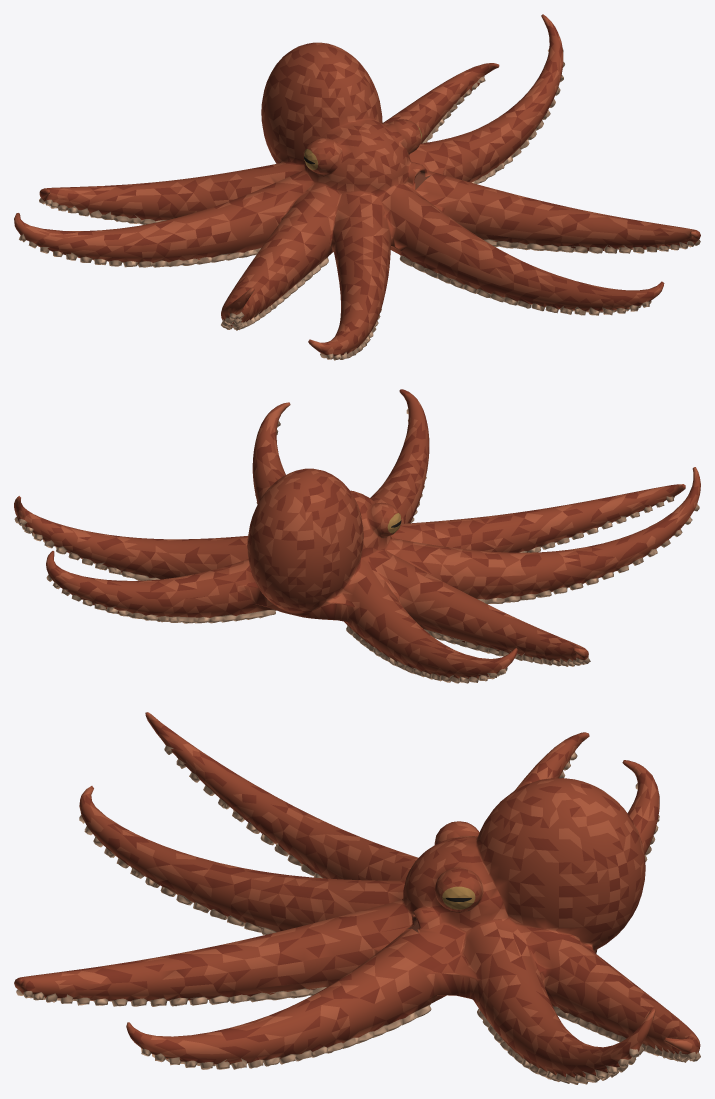
File: NEW406_giant_octopus_LOD1.glb
The picture shows the model from 3 angles, top to bottom: view 1: azimuth 30°, elevation 25°; view 2: azimuth 150°, elevation 25°; view 3: azimuth 270°, elevation 25°; orthographic projection. The views are drawn at different scales.
Visible parts, largest first — view 1: NEW406_Whole_Octopus_LOD1; view 2: NEW406_Whole_Octopus_LOD1; view 3: NEW406_Whole_Octopus_LOD1.
Boxes of the visible parts, x1,y1,x2,y2 form: NEW406_Whole_Octopus_LOD1: (14,14,700,360); NEW406_Whole_Octopus_LOD1: (14,389,700,683); NEW406_Whole_Octopus_LOD1: (14,712,700,1084).
Bounding box in the file's own units: 2.09 × 0.5608 × 1.78.
